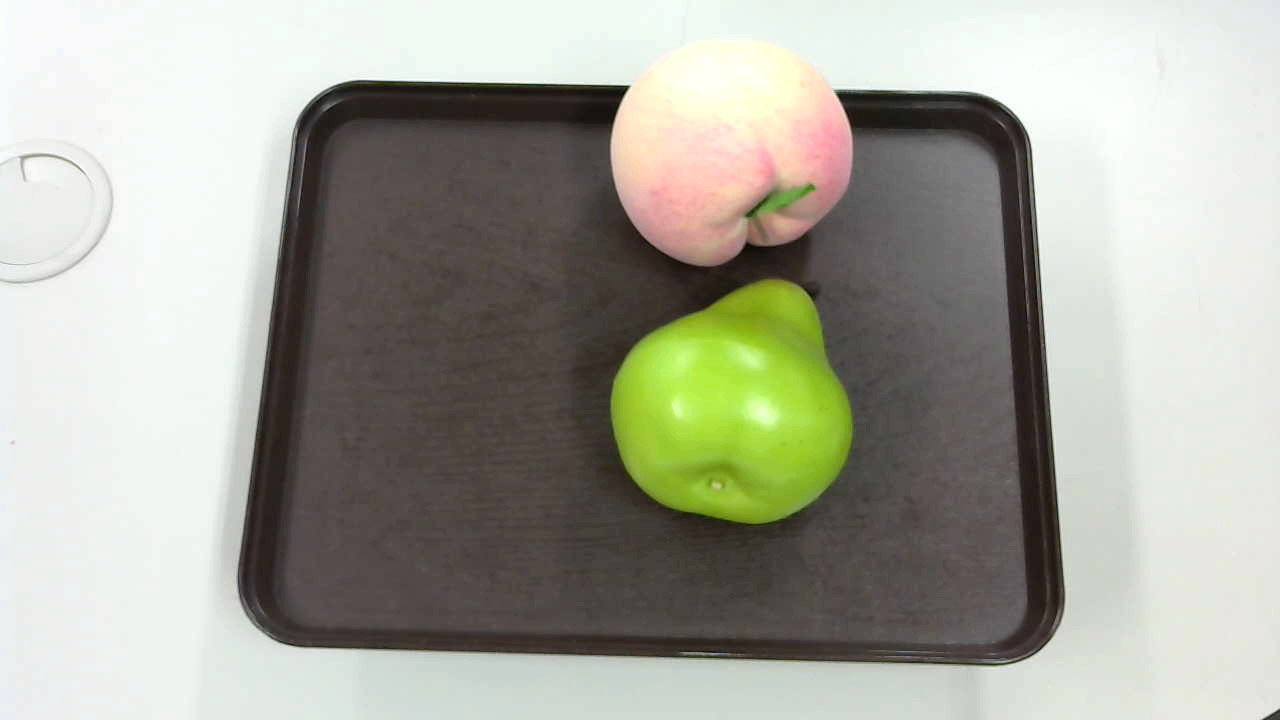green pear: (598, 269, 856, 521)
peach: (603, 32, 854, 270)
